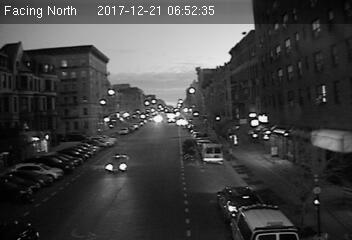car: (219, 184, 261, 221), (101, 155, 131, 173)
police: (228, 202, 298, 240)
truck: (201, 142, 223, 162)
